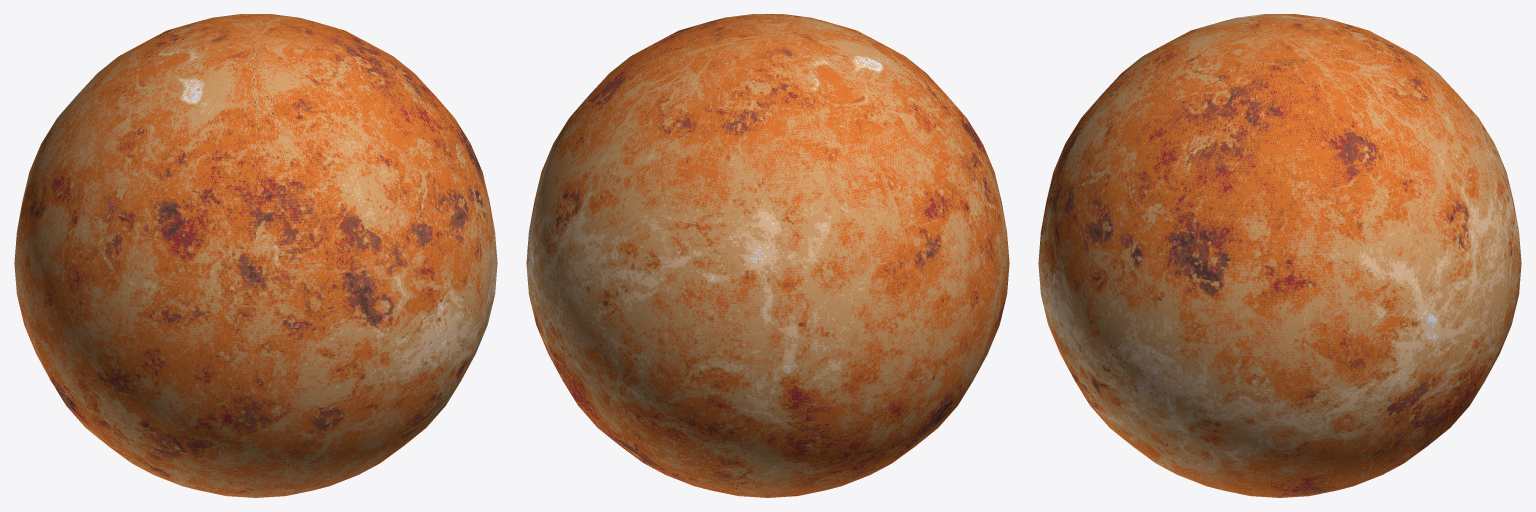
The model's file is venus.glb.
3 renders of one model, left to right at view 1: azimuth 30°, elevation 25°; view 2: azimuth 150°, elevation 25°; view 3: azimuth 270°, elevation 25°, orthographic.
Visible parts, largest first — view 1: pSphere2; view 2: pSphere2; view 3: pSphere2.
Part boxes in pixels (x1,y1,x2,y2): pSphere2: (14,14,497,497); pSphere2: (526,14,1009,497); pSphere2: (1038,14,1521,497).
Bounding box in the file's own units: 1.17 × 1.17 × 1.17.
1 material, 1 textured.
